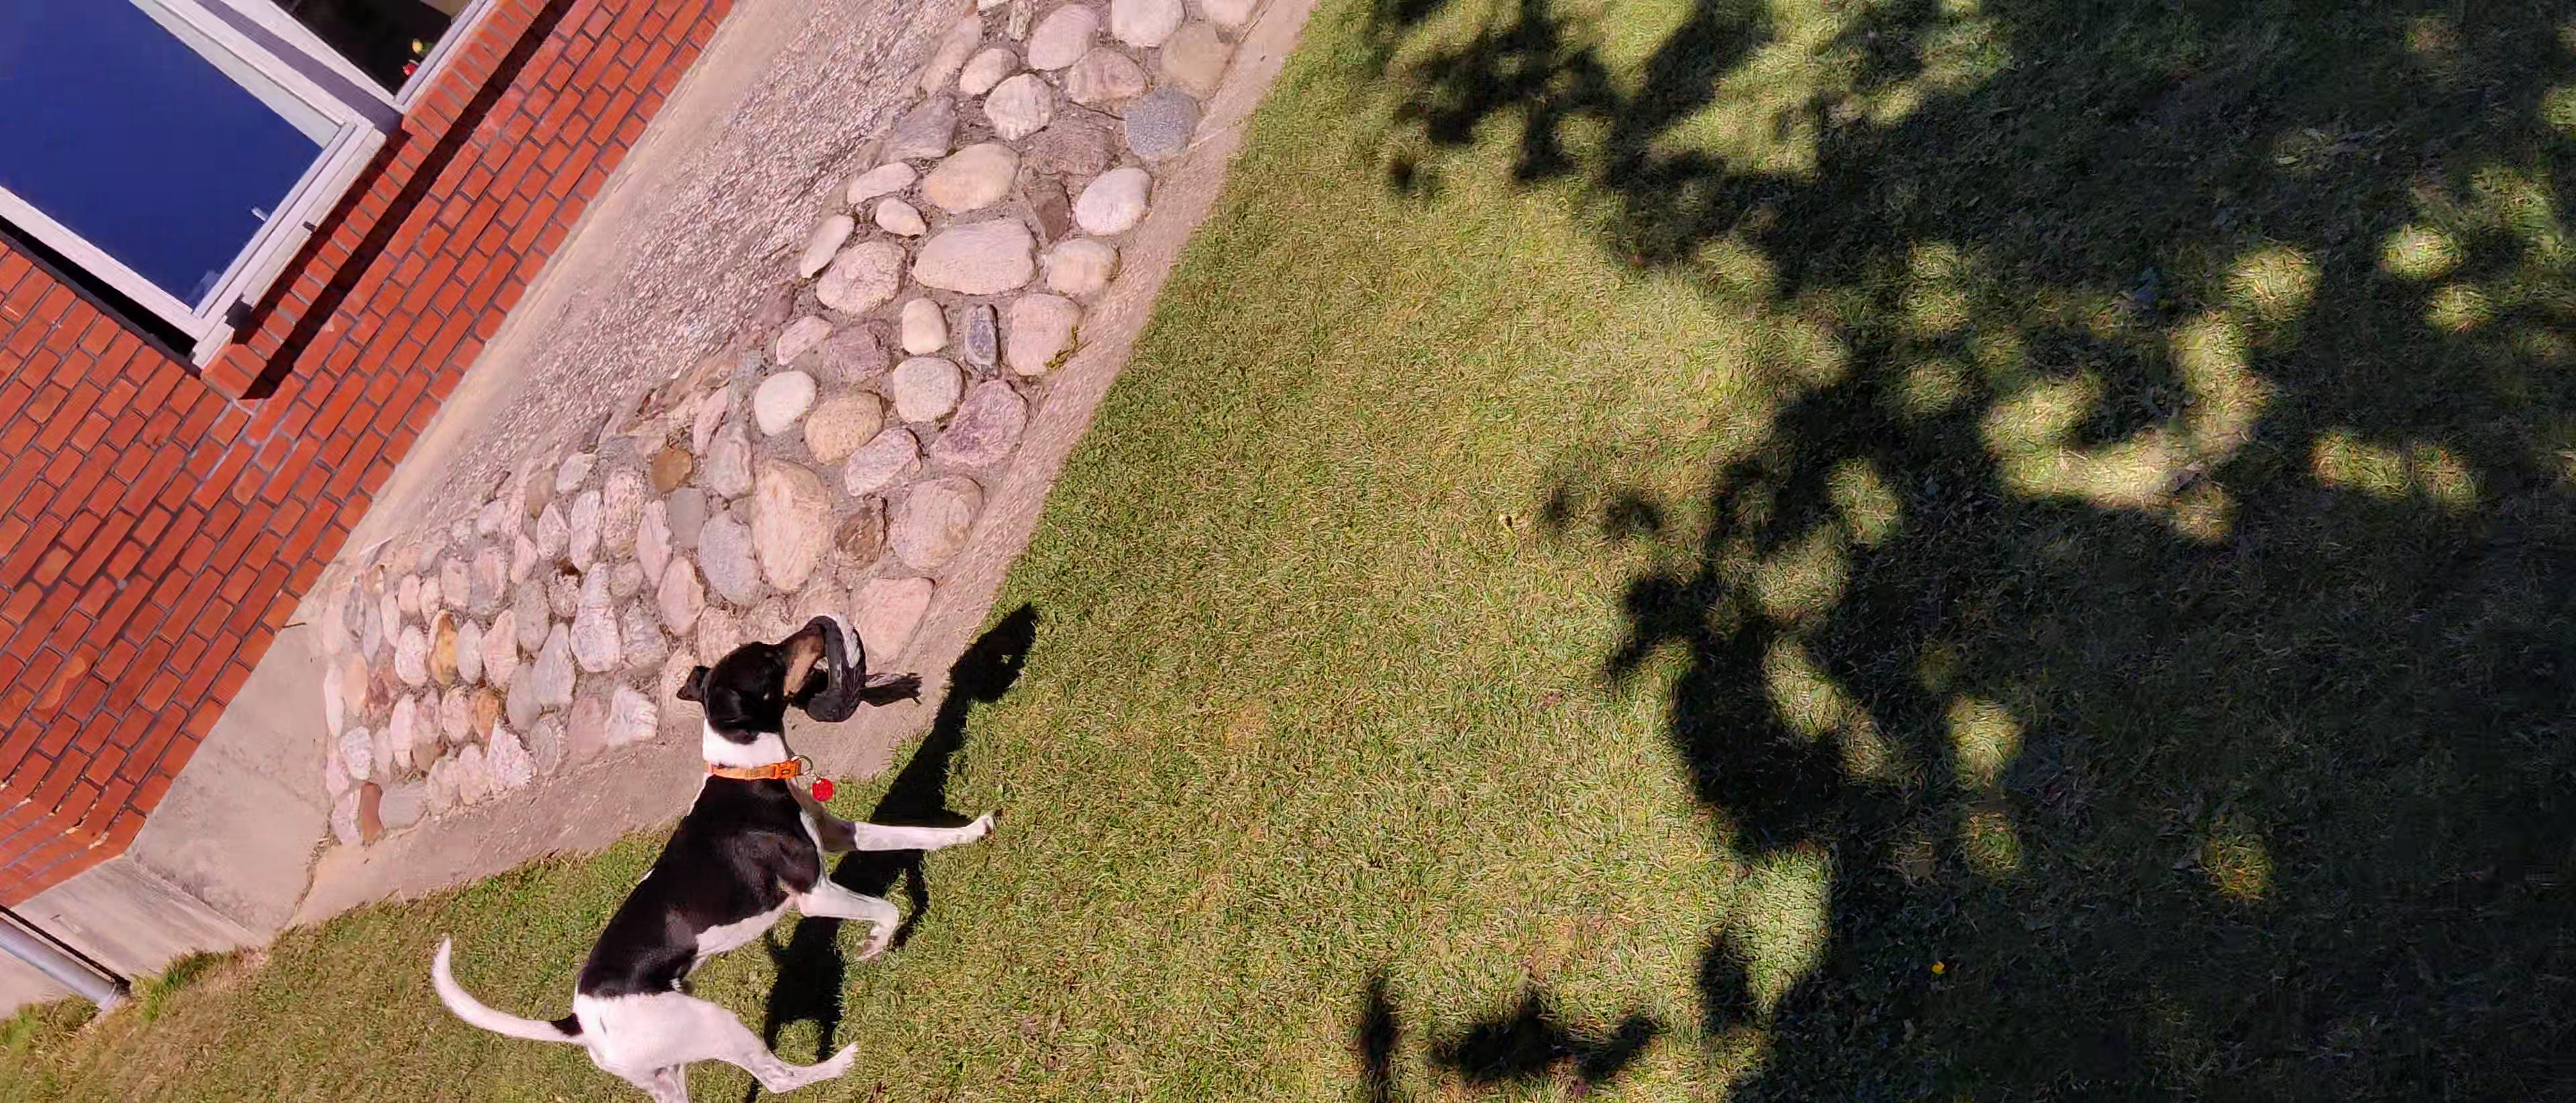Dog: (419, 613, 996, 1103)
